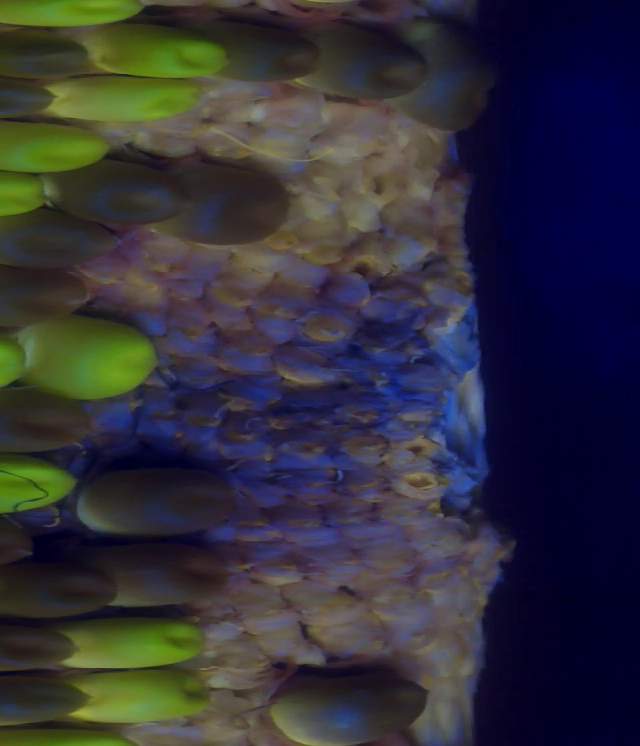fluorescent: (24, 314, 161, 398), (72, 667, 212, 725), (101, 25, 235, 85), (59, 72, 213, 122), (64, 620, 209, 667), (0, 120, 110, 177), (0, 452, 79, 518), (0, 1, 150, 35), (0, 159, 55, 220)
nonfluorescent: (269, 655, 429, 741), (169, 146, 288, 261), (87, 458, 238, 536), (309, 11, 424, 109), (412, 24, 496, 137), (57, 157, 179, 228), (209, 10, 314, 89), (106, 543, 232, 607), (0, 385, 98, 452), (0, 210, 117, 266), (0, 558, 113, 615), (0, 25, 96, 84), (0, 261, 85, 325), (0, 676, 92, 728), (0, 621, 77, 672), (0, 78, 62, 124)
